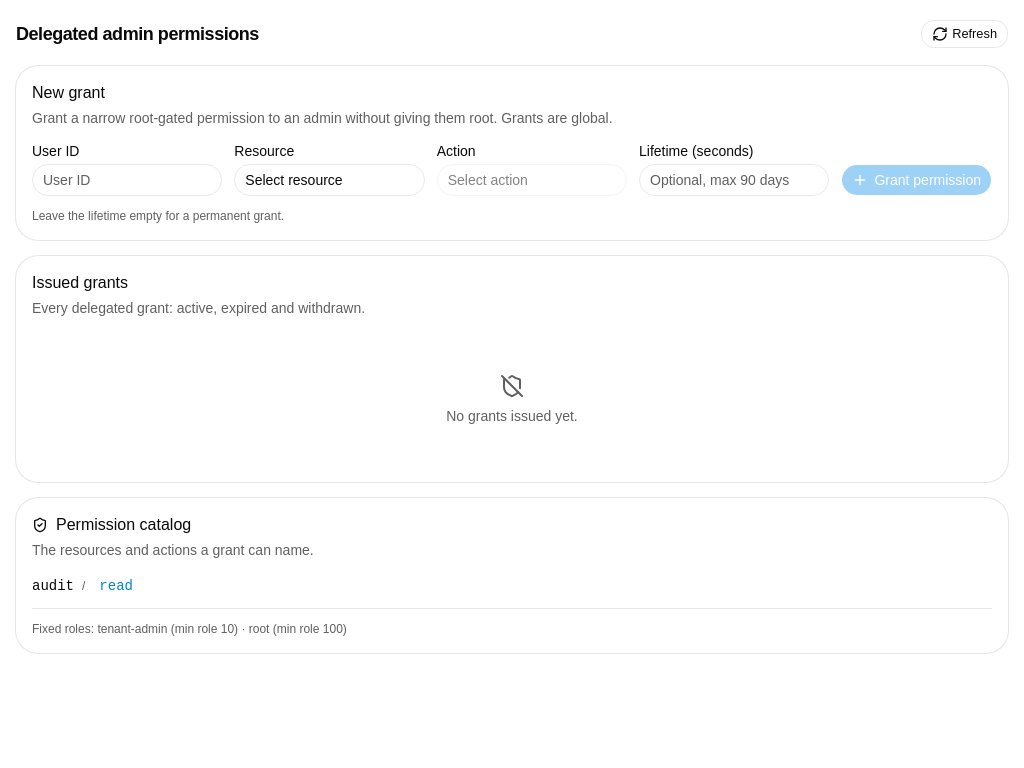
creating a grant › posts a global grant (tenant_id null, no ttl key) and refreshes the list
Expected: the element with test id "authz-empty" is shown, [446,374,578,424]
Type "42" into the number field labelled "User ID" at (127, 180), box [32,164,222,196]
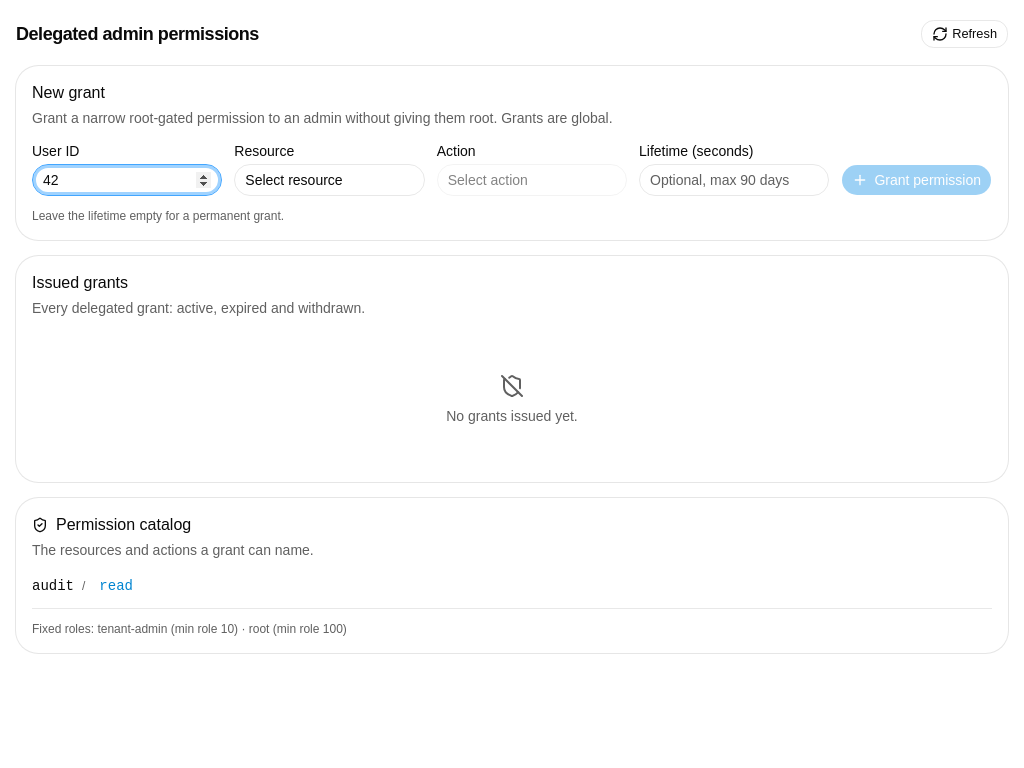
Select "audit" in the dropdown labelled "Resource" at (330, 180), box [234,164,425,196]
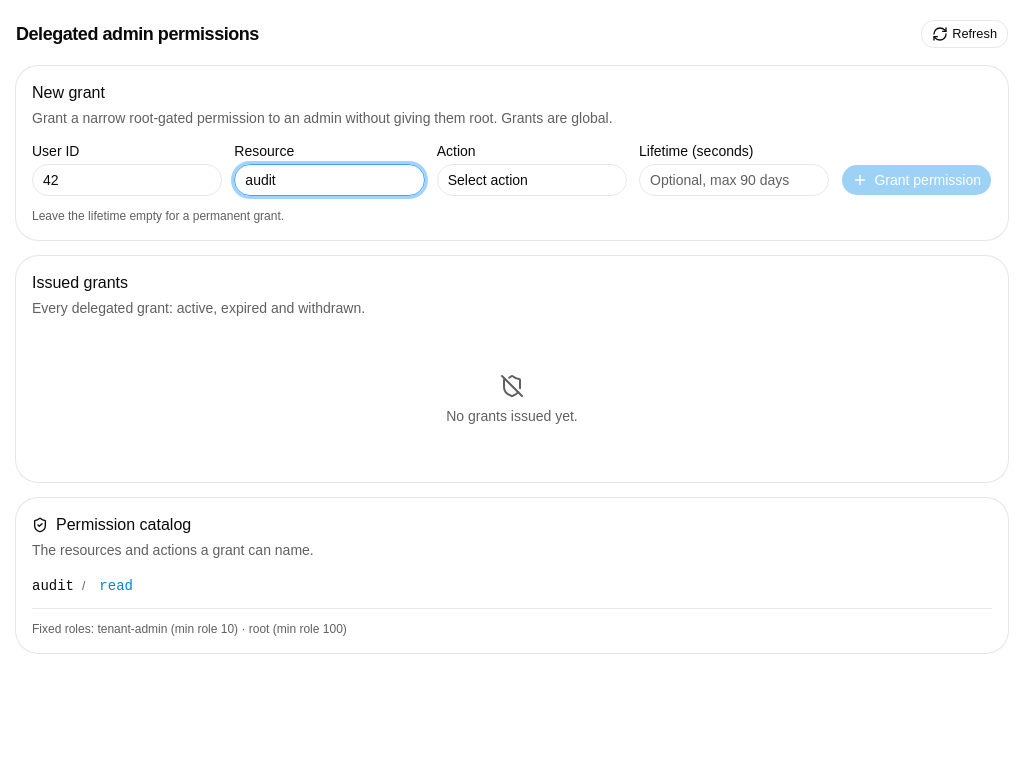
Select "read" in the dropdown labelled "Action" at (532, 180), box [437,164,627,196]
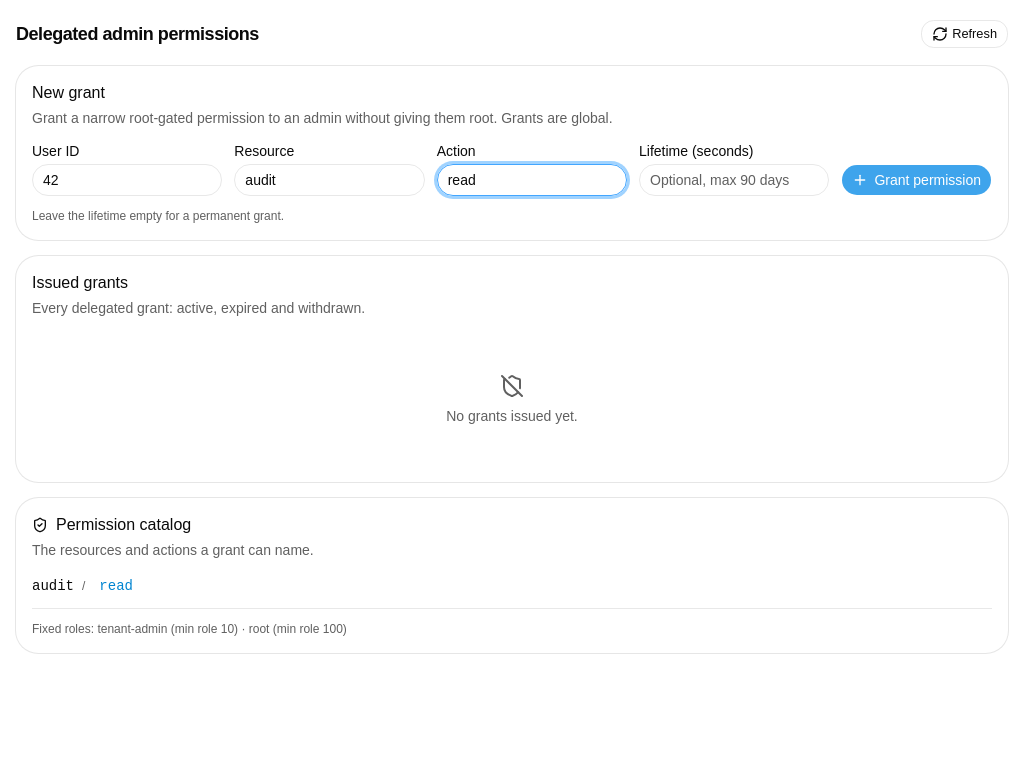
Click the button "Grant permission" at (917, 180), box [841,164,992,196]
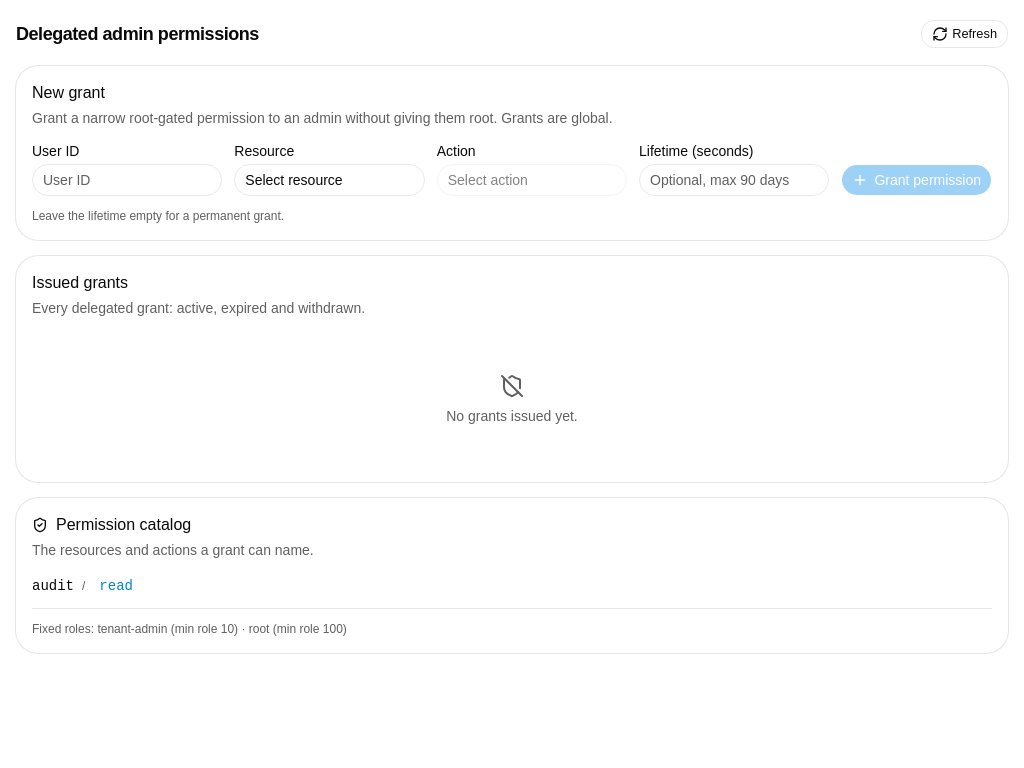
Expected: the number field labelled "User ID" is not empty, [32,164,222,196]
